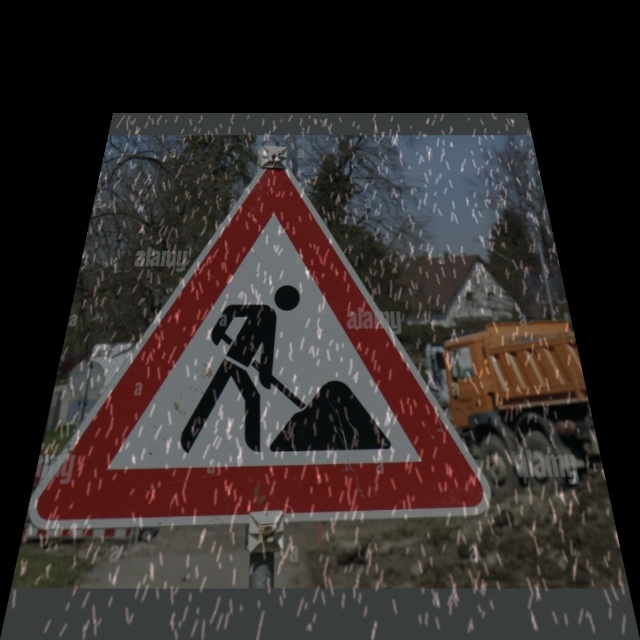Men_at_Work: (91, 172, 462, 504)
